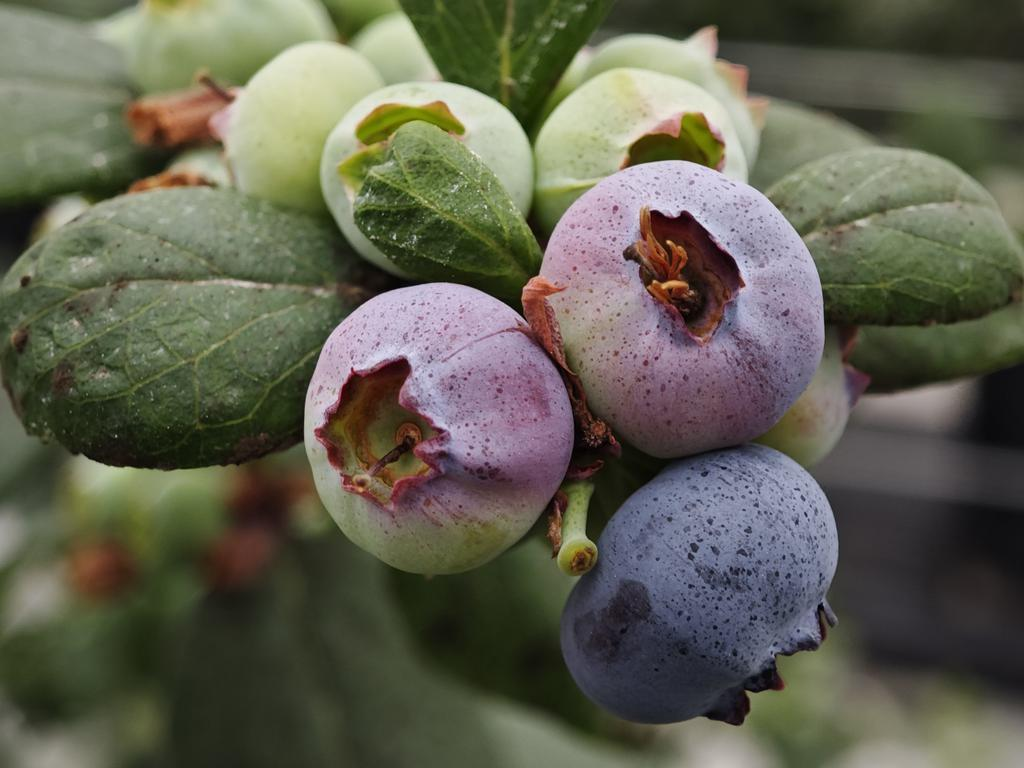RipeBlueBerry: (557, 443, 841, 729)
Semi-RipeBlueBerry: (538, 155, 827, 462), (300, 275, 579, 582)
